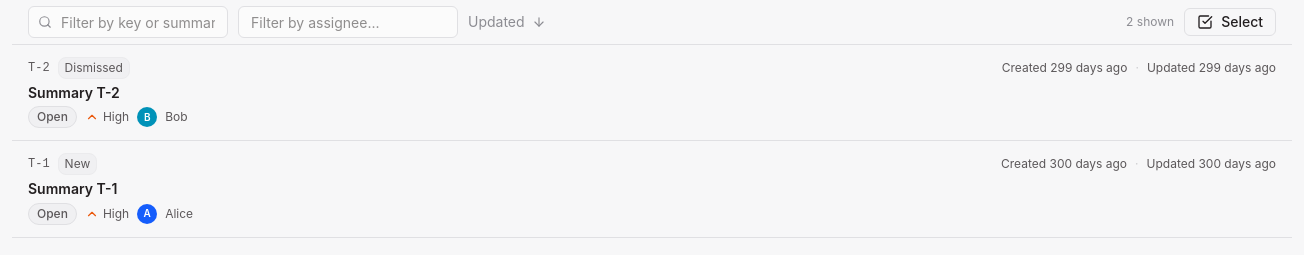
Test case: GroupViewPage › shows a no-results state when the filter excludes every member
Type "ZZZ" into the field named "Filter tickets by key or summary".
click(128, 22); type("ZZZ")  # box x1=28 y1=6 x2=228 y2=38
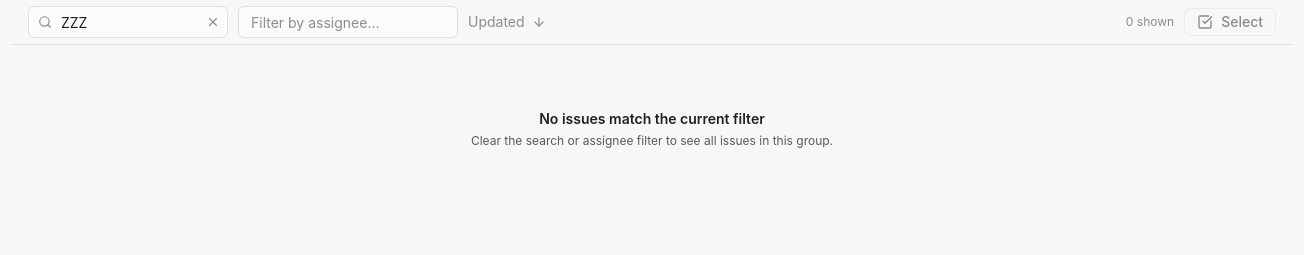
Result: the text "No issues match the current filter" is shown at x1=539 y1=109 x2=765 y2=129
